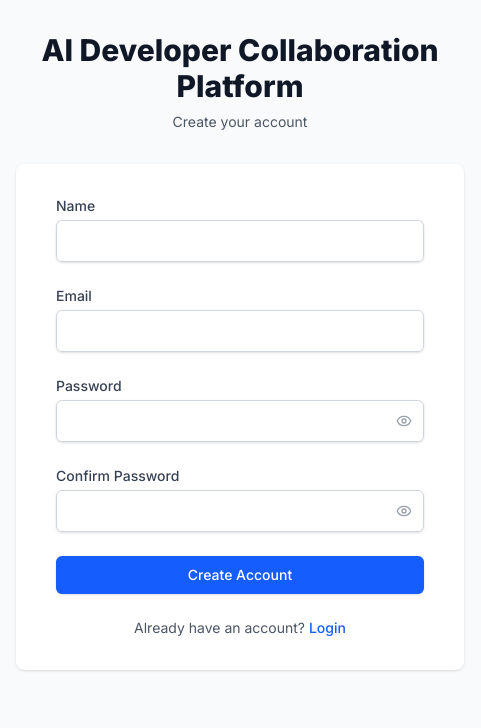
Test: Register Page › 2. shows required field validation errors
Click the button "Create Account": x=240, y=575 [56,556,424,594]
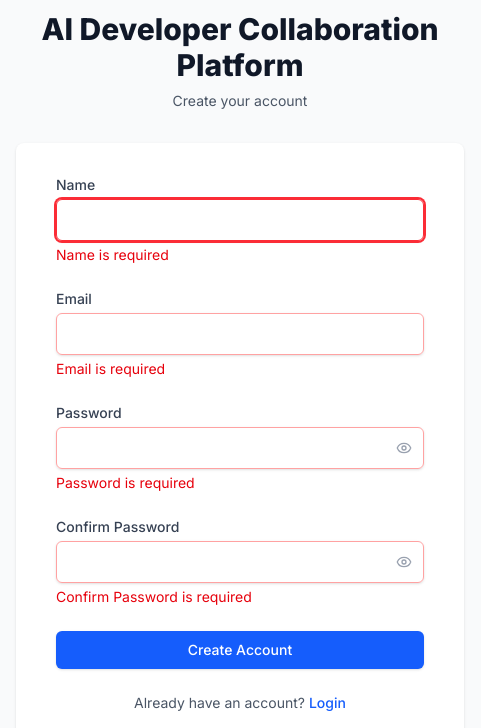
Now the text "Name is required" is shown, box [56,246,169,263]
Now the text "Email is required" is shown, box [56,360,165,377]
Now the text "Password is required" is shown, box [56,474,195,491]
